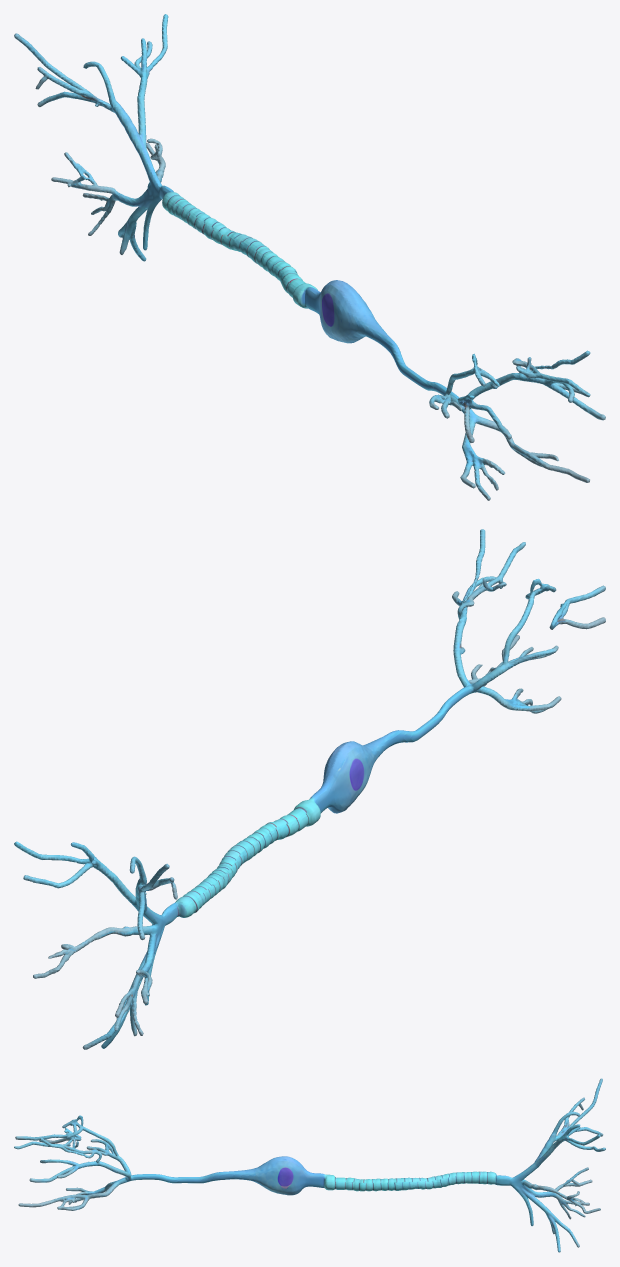
The model's file is bipolar.glb.
3 renders of one model, top to bottom at view 1: azimuth 30°, elevation 25°; view 2: azimuth 150°, elevation 25°; view 3: azimuth 270°, elevation 25°, orthographic. The views are drawn at different scales.
Visible parts, largest first — view 1: tripo_node_f544fcbf-a9f0-420b-be9b-ec41489f488a; view 2: tripo_node_f544fcbf-a9f0-420b-be9b-ec41489f488a; view 3: tripo_node_f544fcbf-a9f0-420b-be9b-ec41489f488a.
Part boxes in pixels (x1,y1,x2,y2): tripo_node_f544fcbf-a9f0-420b-be9b-ec41489f488a: (14, 14, 605, 500); tripo_node_f544fcbf-a9f0-420b-be9b-ec41489f488a: (14, 529, 605, 1049); tripo_node_f544fcbf-a9f0-420b-be9b-ec41489f488a: (14, 1078, 605, 1252).
Bounding box in the file's own units: 0.1894 × 0.2697 × 1.
Materials: 1 (1 with a texture image).
